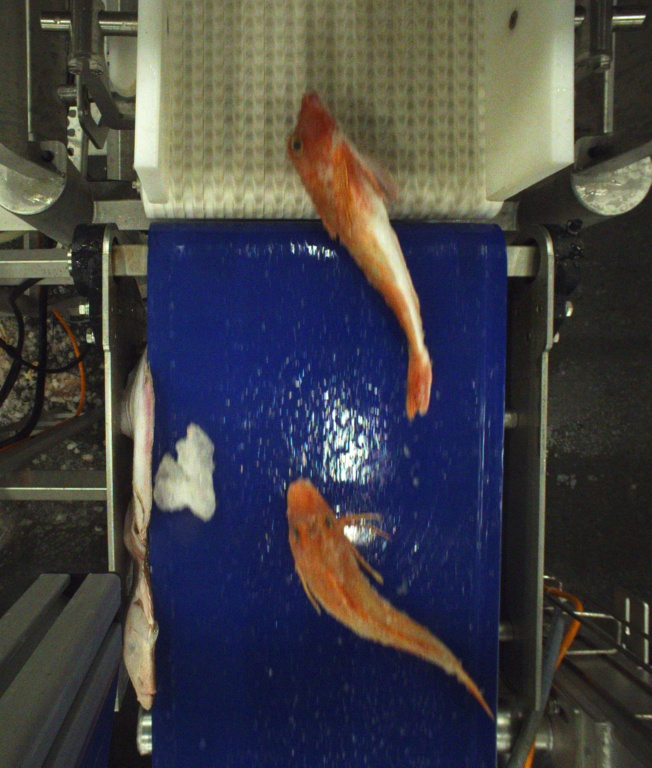GUU: (288, 92, 434, 418)
